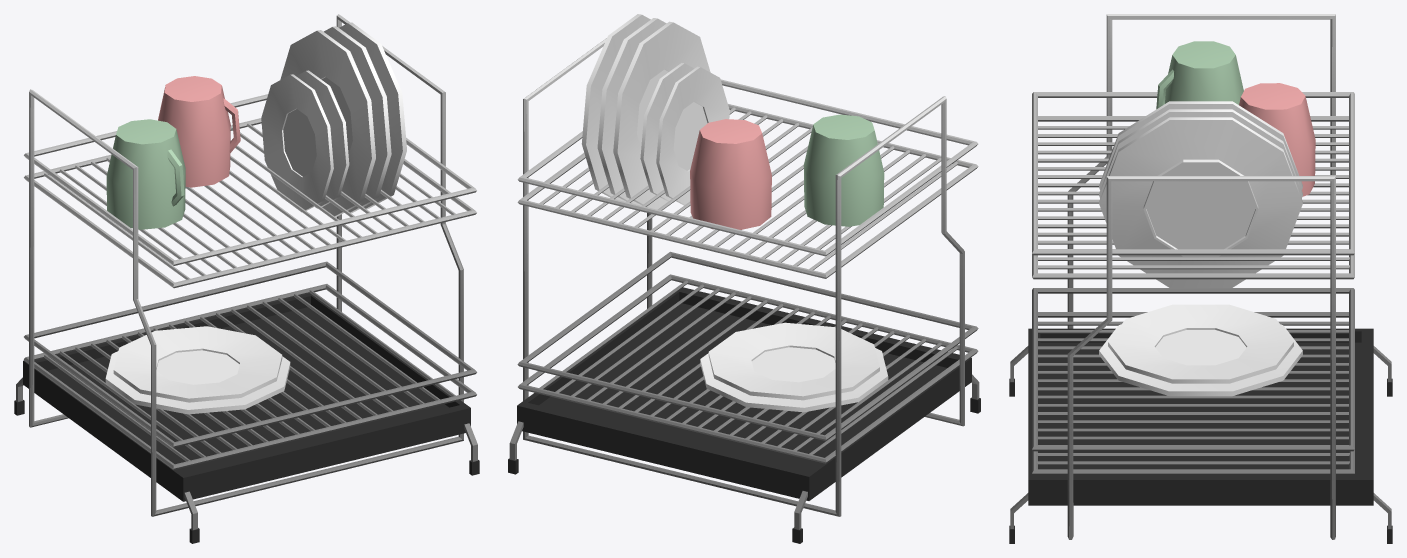
The model's file is dish_rack 1.fbx.
The picture shows the model from 3 angles, left to right: view 1: azimuth 30°, elevation 25°; view 2: azimuth 150°, elevation 25°; view 3: azimuth 270°, elevation 25°; orthographic projection. The views are drawn at different scales.
Parts seen in each view (by area): view 1: dish_rack; view 2: dish_rack; view 3: dish_rack.
Boxes of the visible parts, <box> form: dish_rack: <box>14,14,479,543</box>; dish_rack: <box>508,14,980,543</box>; dish_rack: <box>1009,14,1392,543</box>.
Bounding box in the file's own units: 0.7137 × 0.8345 × 0.7045.
1 material, 1 textured.
